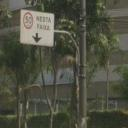speed_limit_50: (23, 11, 33, 29)
